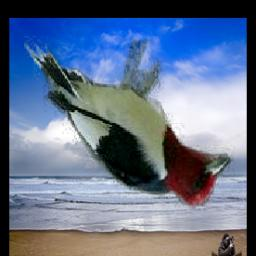Woodpecker: (24, 33, 236, 219)
